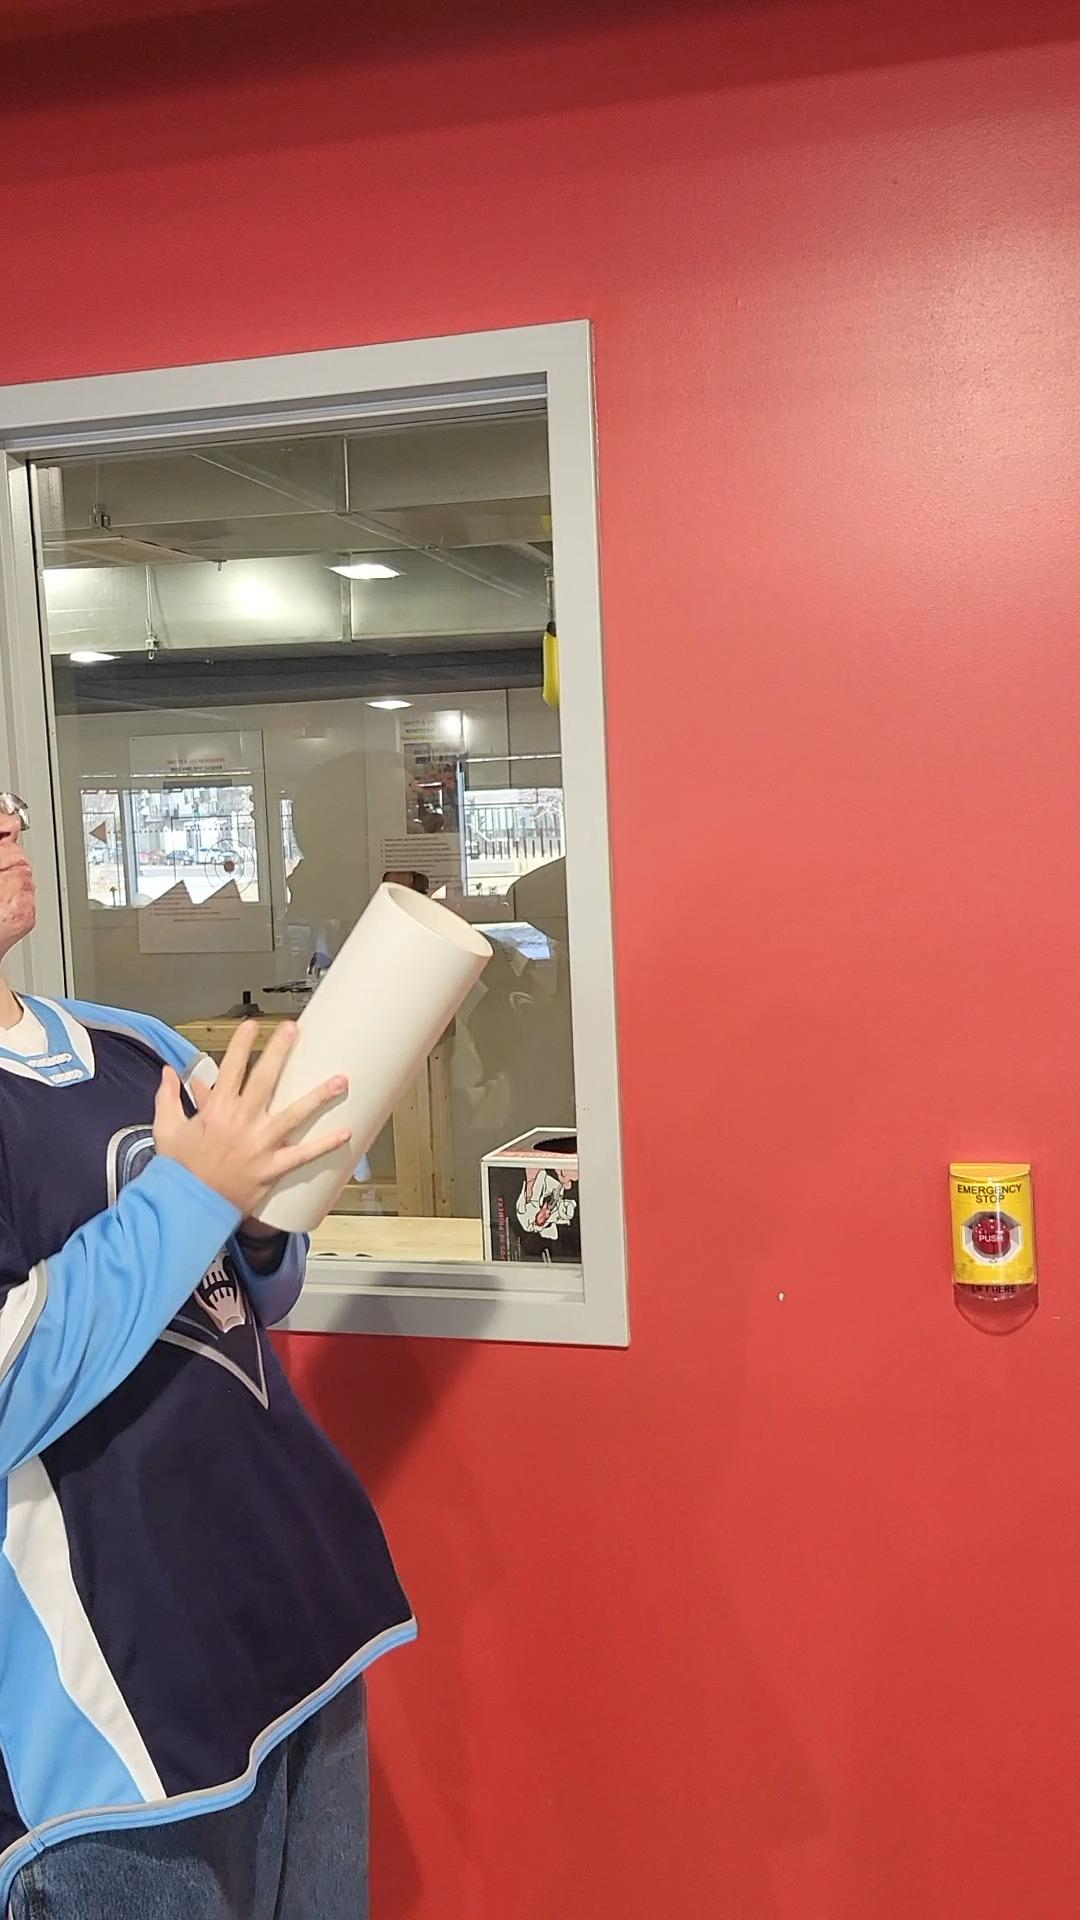coral: (203, 877, 504, 1234)
